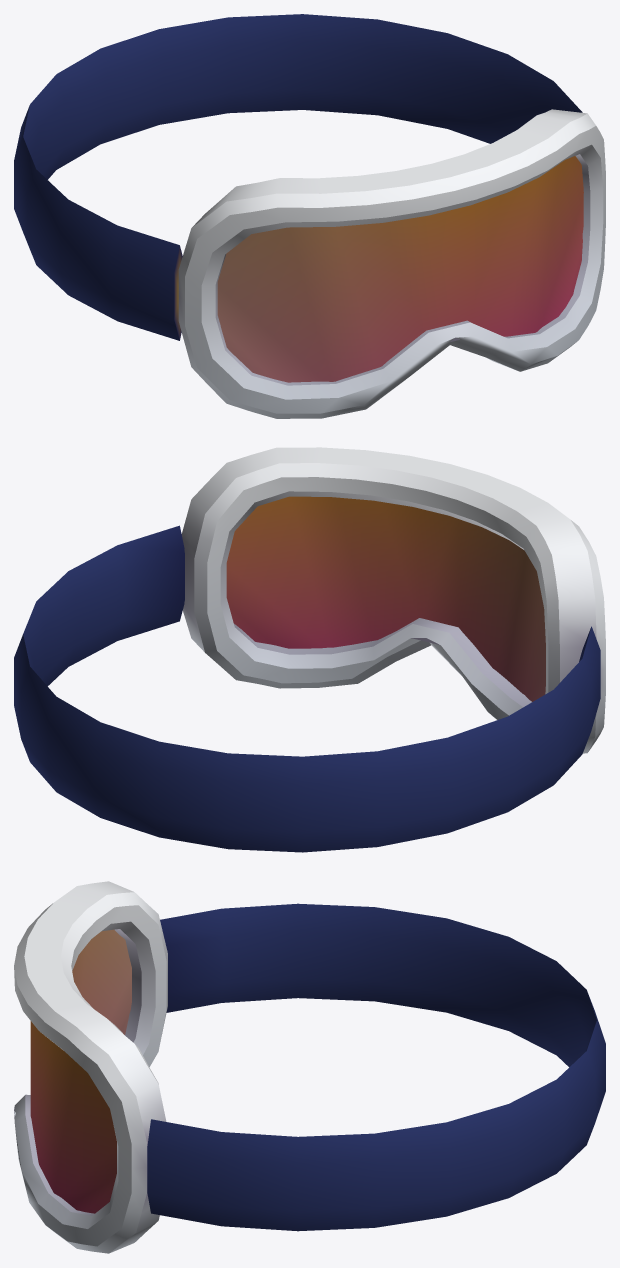
File: goggles.glb
The picture shows the model from 3 angles, top to bottom: view 1: azimuth 30°, elevation 25°; view 2: azimuth 150°, elevation 25°; view 3: azimuth 270°, elevation 25°; orthographic projection.
Visible parts, largest first — view 1: goggles; view 2: goggles; view 3: goggles.
Boxes of the visible parts, x1,y1,x2,y2 form: goggles: [14, 14, 605, 418]; goggles: [14, 447, 605, 852]; goggles: [14, 881, 605, 1253].
Bounding box in the file's own units: 0.2189 × 0.094 × 0.2275.
